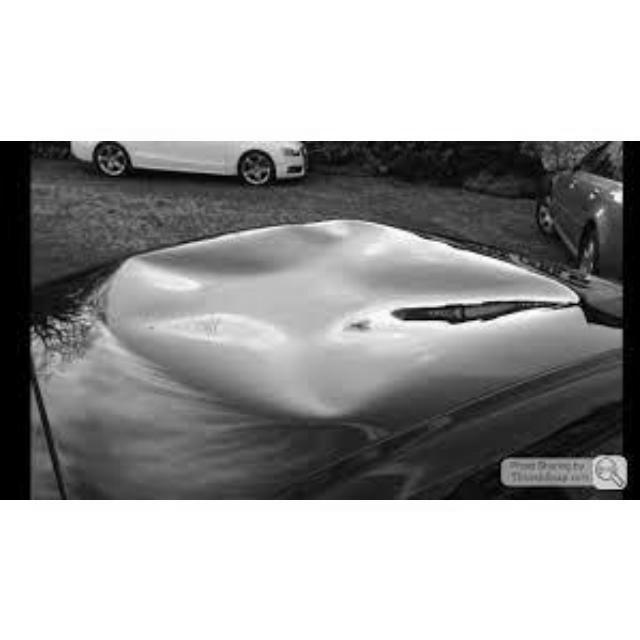roof-dent: (54, 217, 606, 482)
